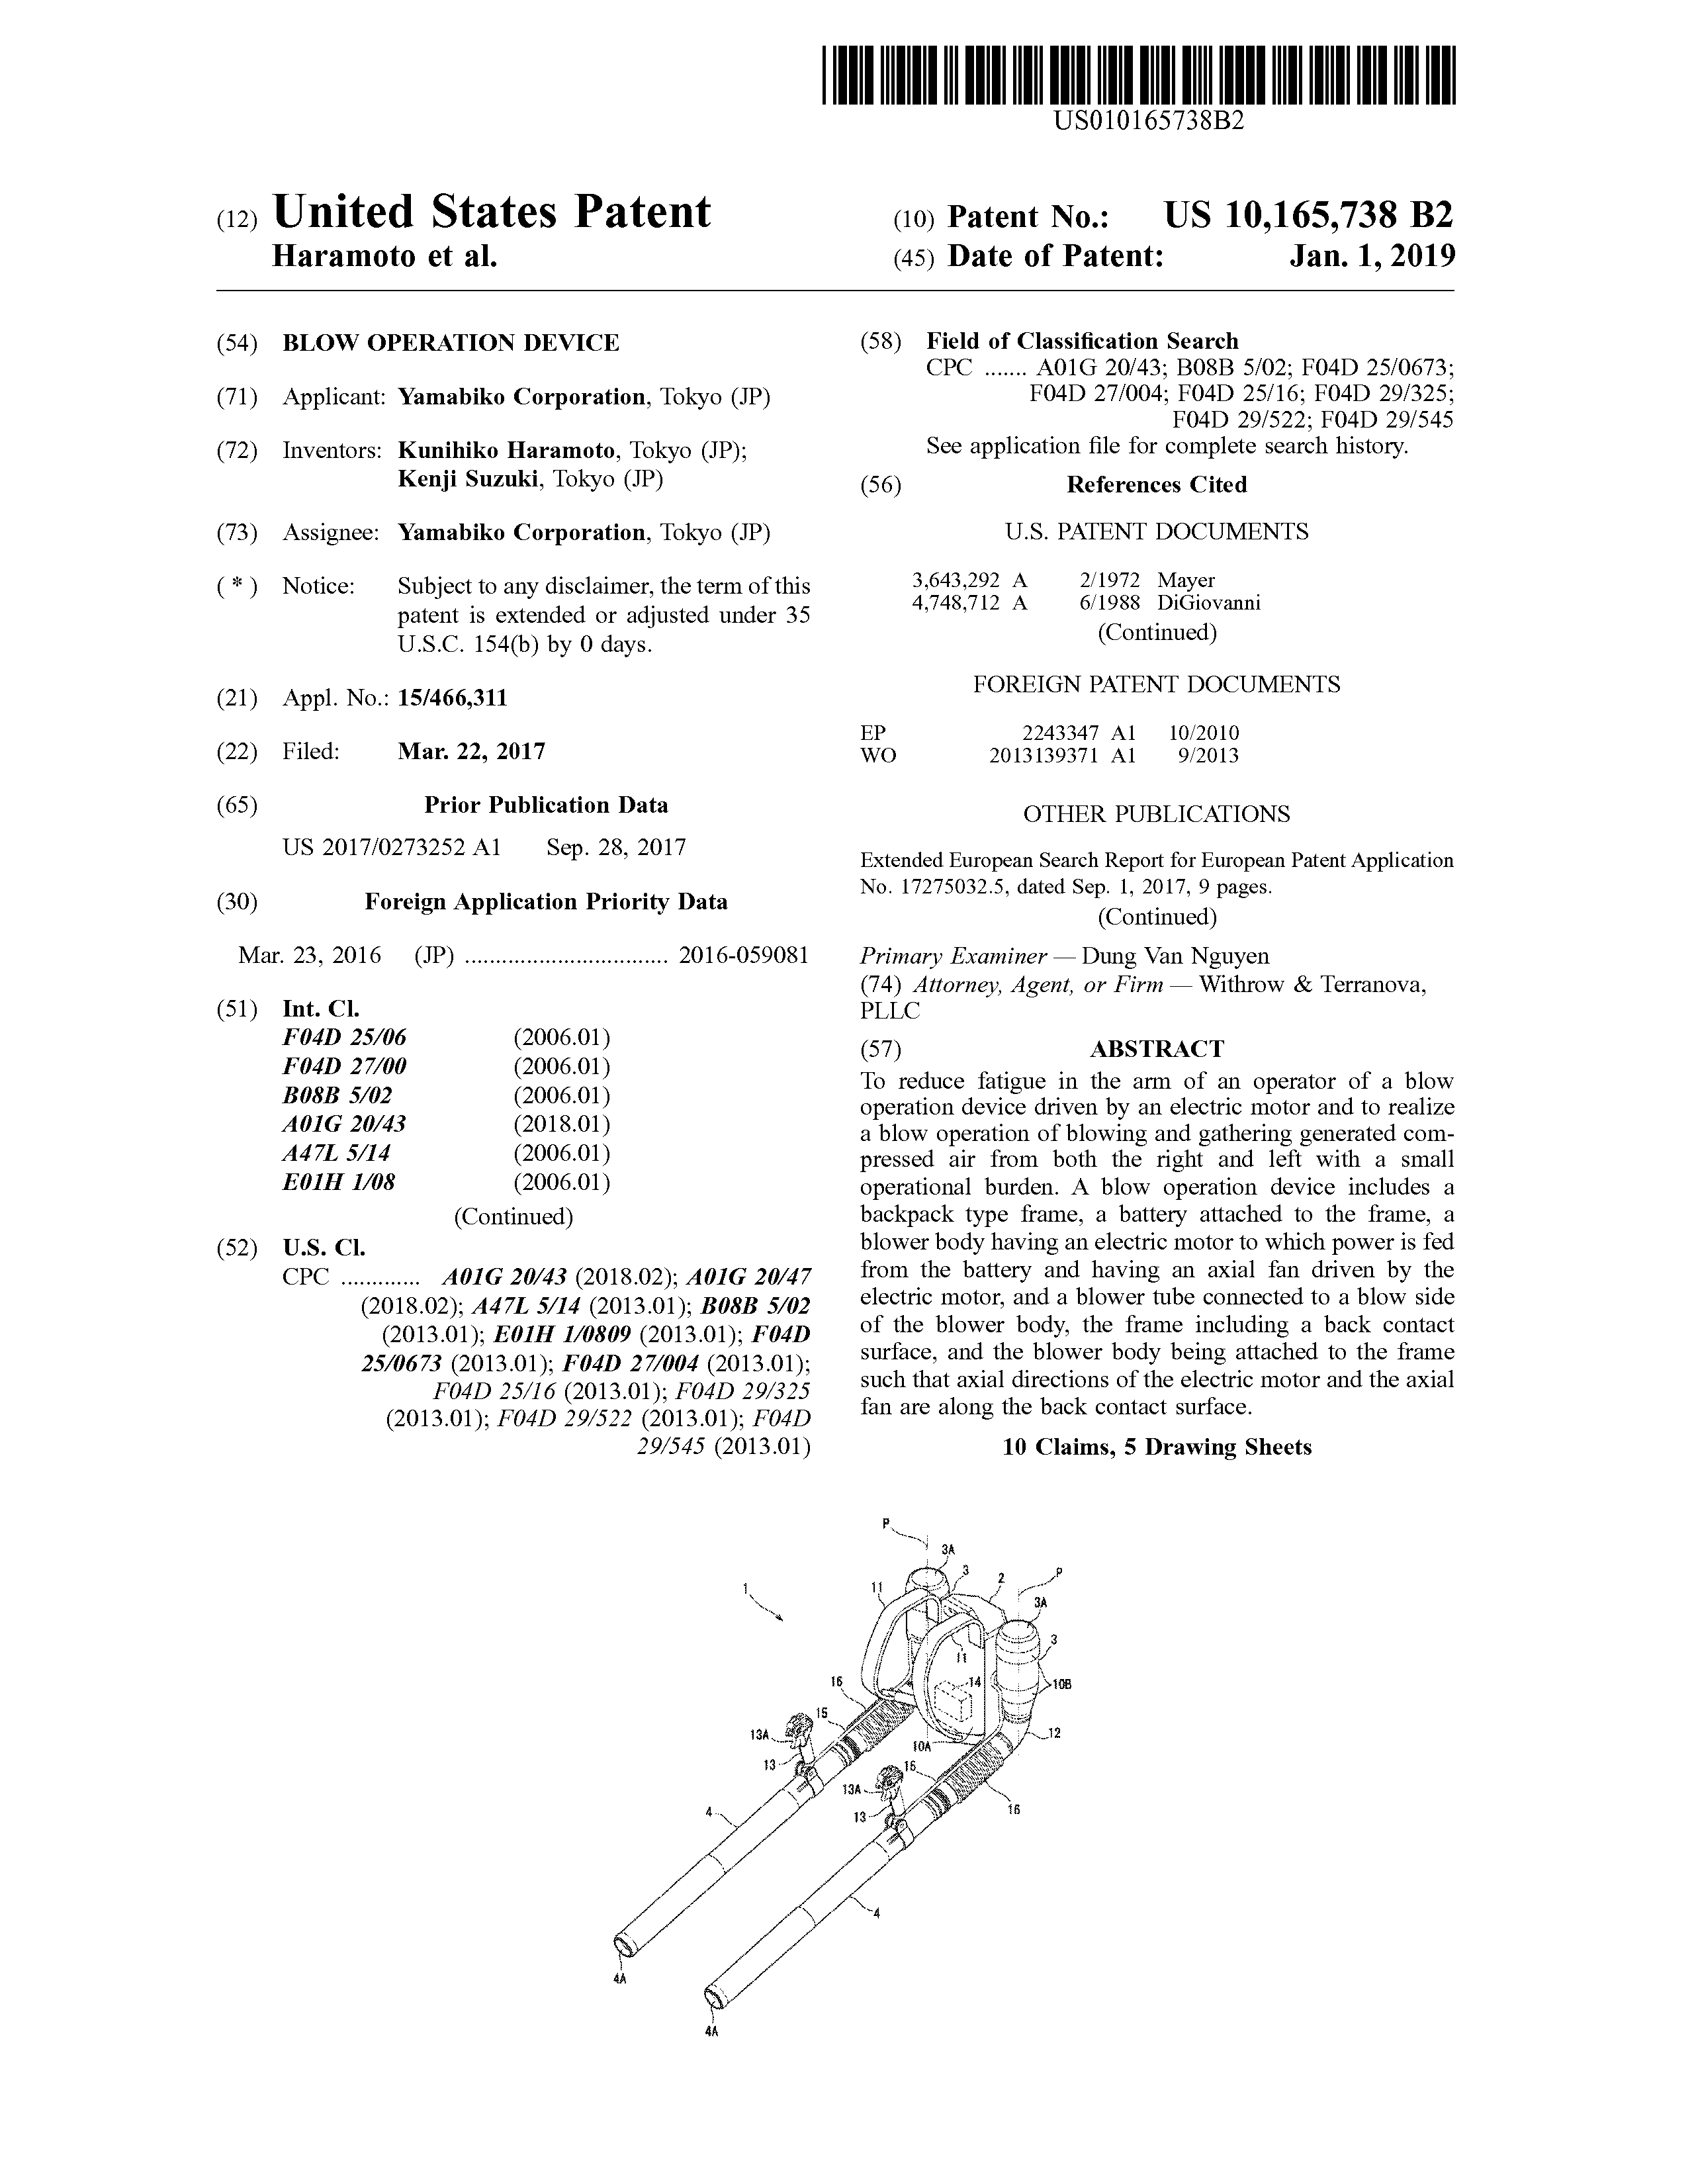patent image: (535, 1493, 1141, 2069)
